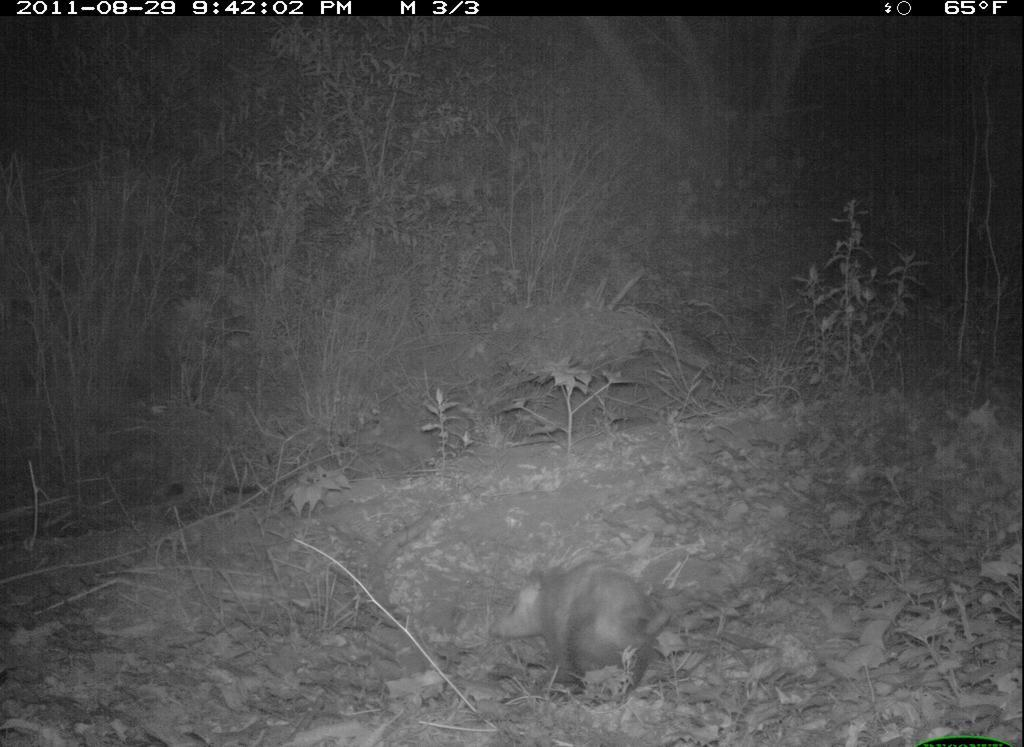opossum: (487, 557, 688, 710)
